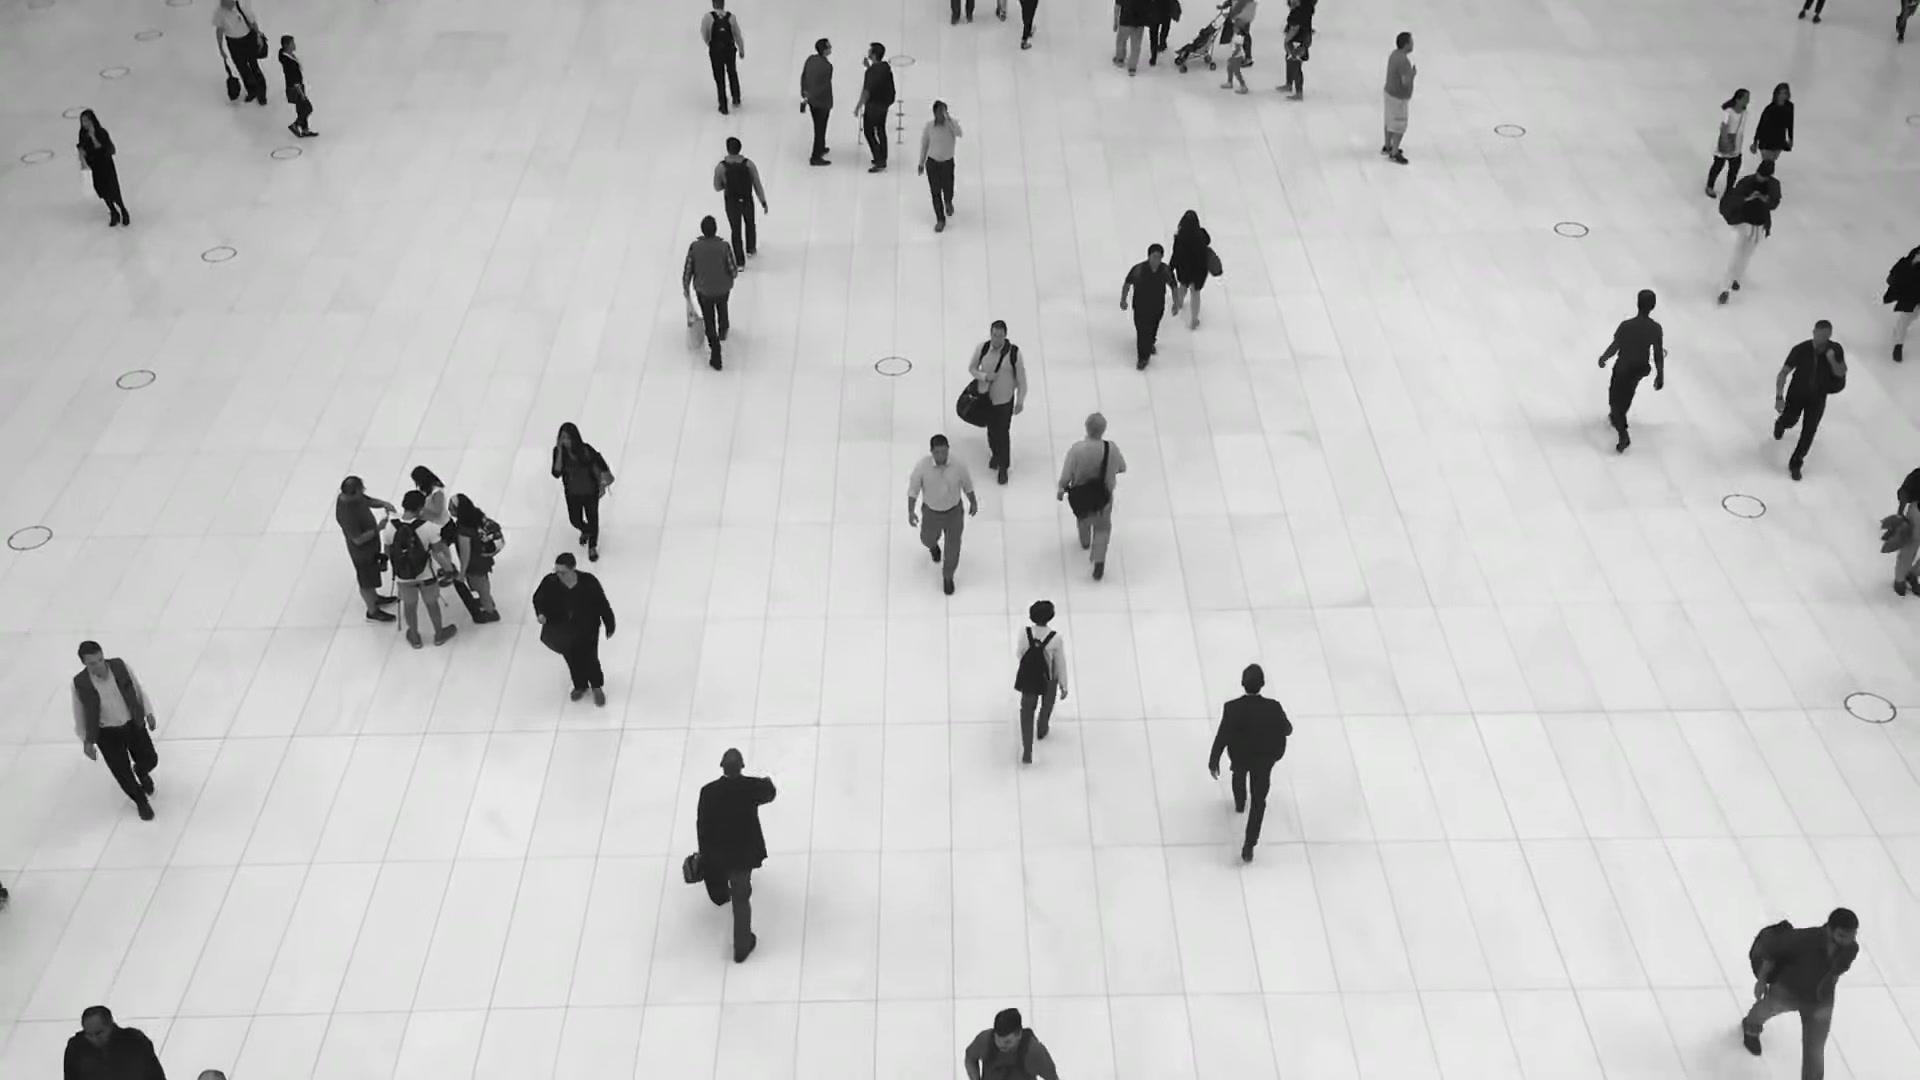person: (694, 747, 779, 952), (70, 642, 162, 830), (1209, 667, 1293, 864), (1758, 901, 1866, 1054), (534, 552, 614, 710), (1771, 319, 1846, 484), (382, 490, 458, 651), (1057, 414, 1128, 583), (906, 434, 975, 600), (1597, 290, 1665, 455), (335, 474, 400, 629), (1011, 602, 1066, 775), (1716, 158, 1781, 296), (970, 319, 1027, 476), (552, 422, 614, 565), (683, 213, 738, 365), (448, 493, 502, 624), (76, 108, 130, 228), (914, 101, 963, 233), (1123, 240, 1176, 360), (715, 137, 763, 266), (410, 465, 459, 589), (211, 0, 268, 106), (273, 36, 329, 139), (1169, 209, 1214, 326), (699, 0, 745, 113), (1380, 30, 1418, 166), (856, 42, 895, 173), (1706, 87, 1750, 198), (799, 38, 835, 167), (1751, 83, 1793, 170), (1281, 0, 1315, 100), (1220, 22, 1248, 94)
